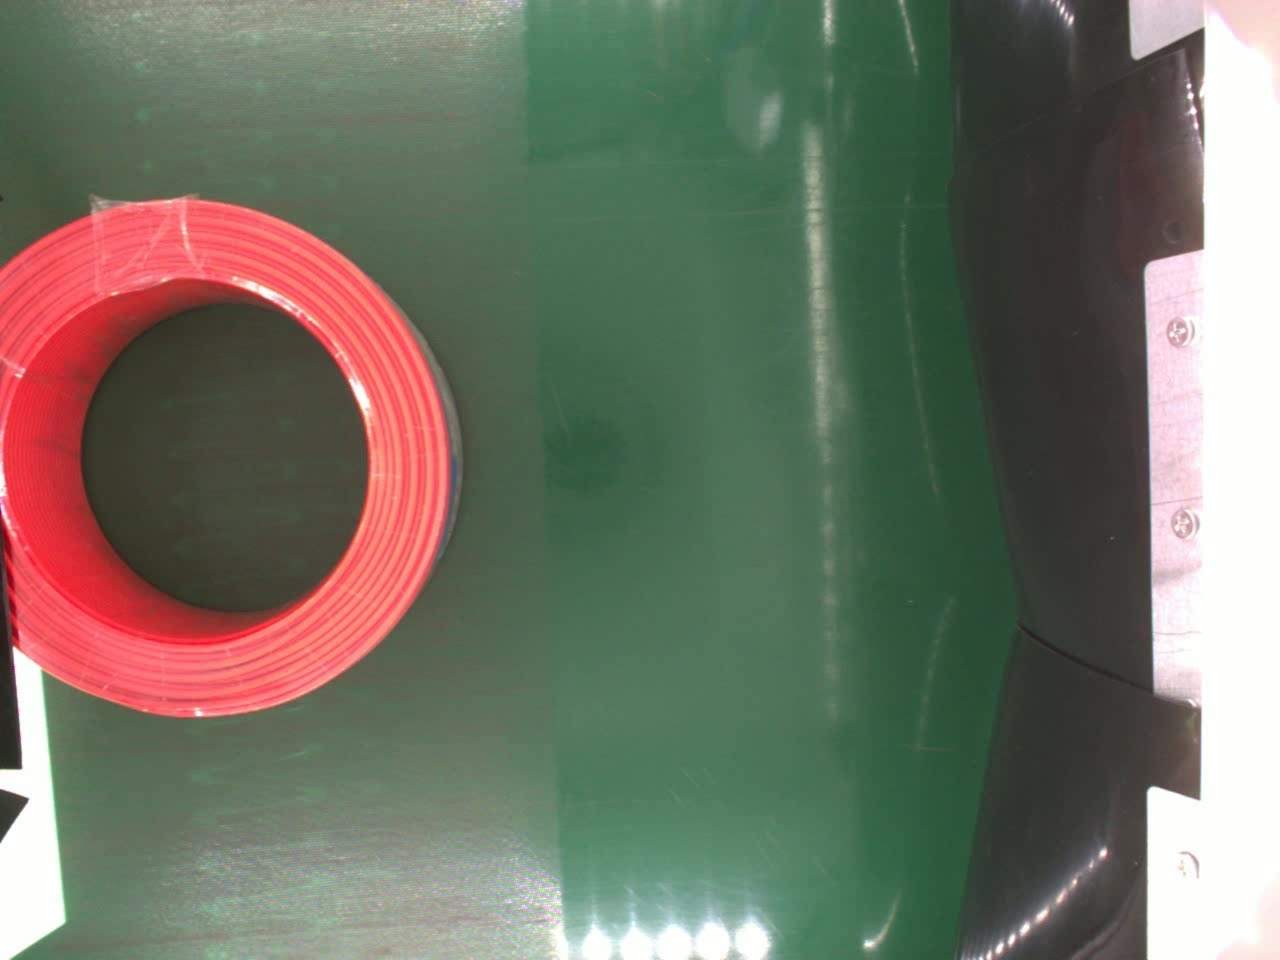red: (0, 196, 465, 711)
